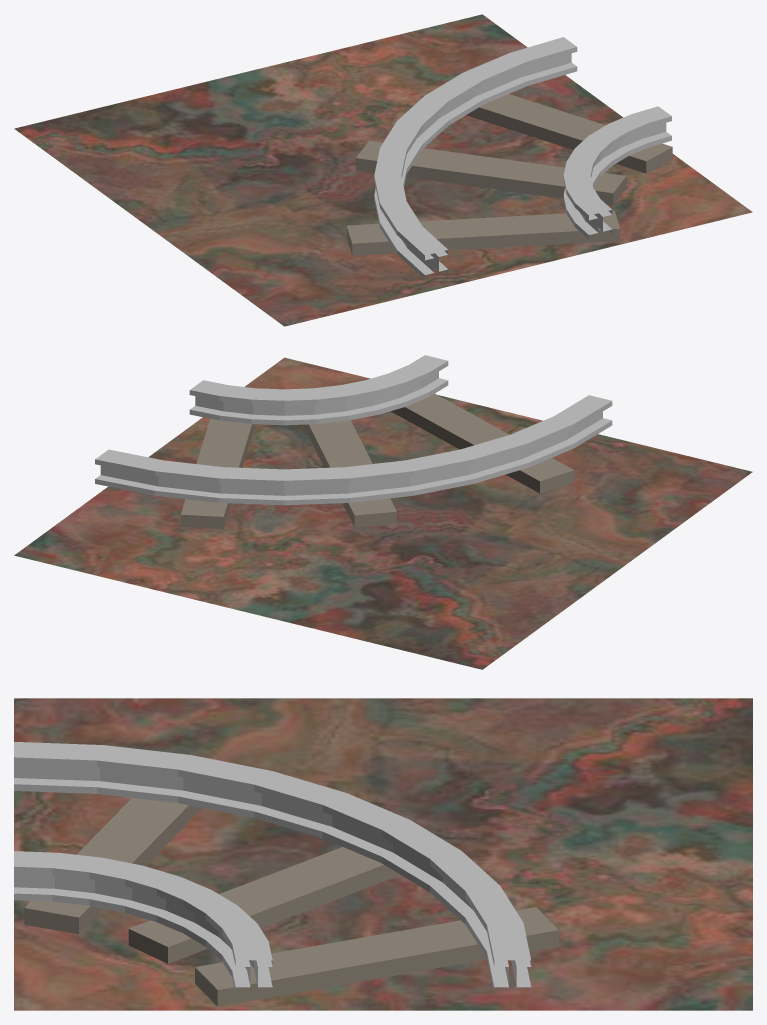
Rendered from cave_minetracks_curve.glb.
The picture shows the model from 3 angles, top to bottom: view 1: azimuth 30°, elevation 25°; view 2: azimuth 150°, elevation 25°; view 3: azimuth 270°, elevation 25°; orthographic projection. The views are drawn at different scales.
Parts seen in each view (by area): view 1: TrackCurve; view 2: TrackCurve; view 3: TrackCurve.
Boxes of the visible parts, box(x1,y1,x2,y2) form: TrackCurve: box(14, 14, 752, 326); TrackCurve: box(14, 355, 752, 669); TrackCurve: box(14, 698, 752, 1010).
Bounding box in the file's own units: 2 × 0.15 × 2.
Materials: 3 (1 with a texture image).
